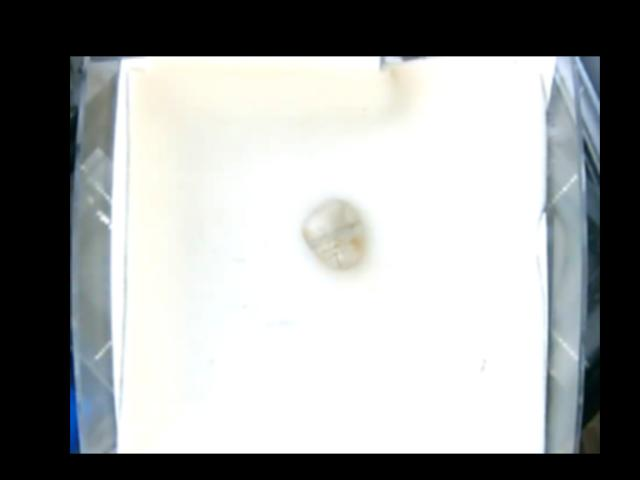Pebble: (301, 197, 365, 268)
